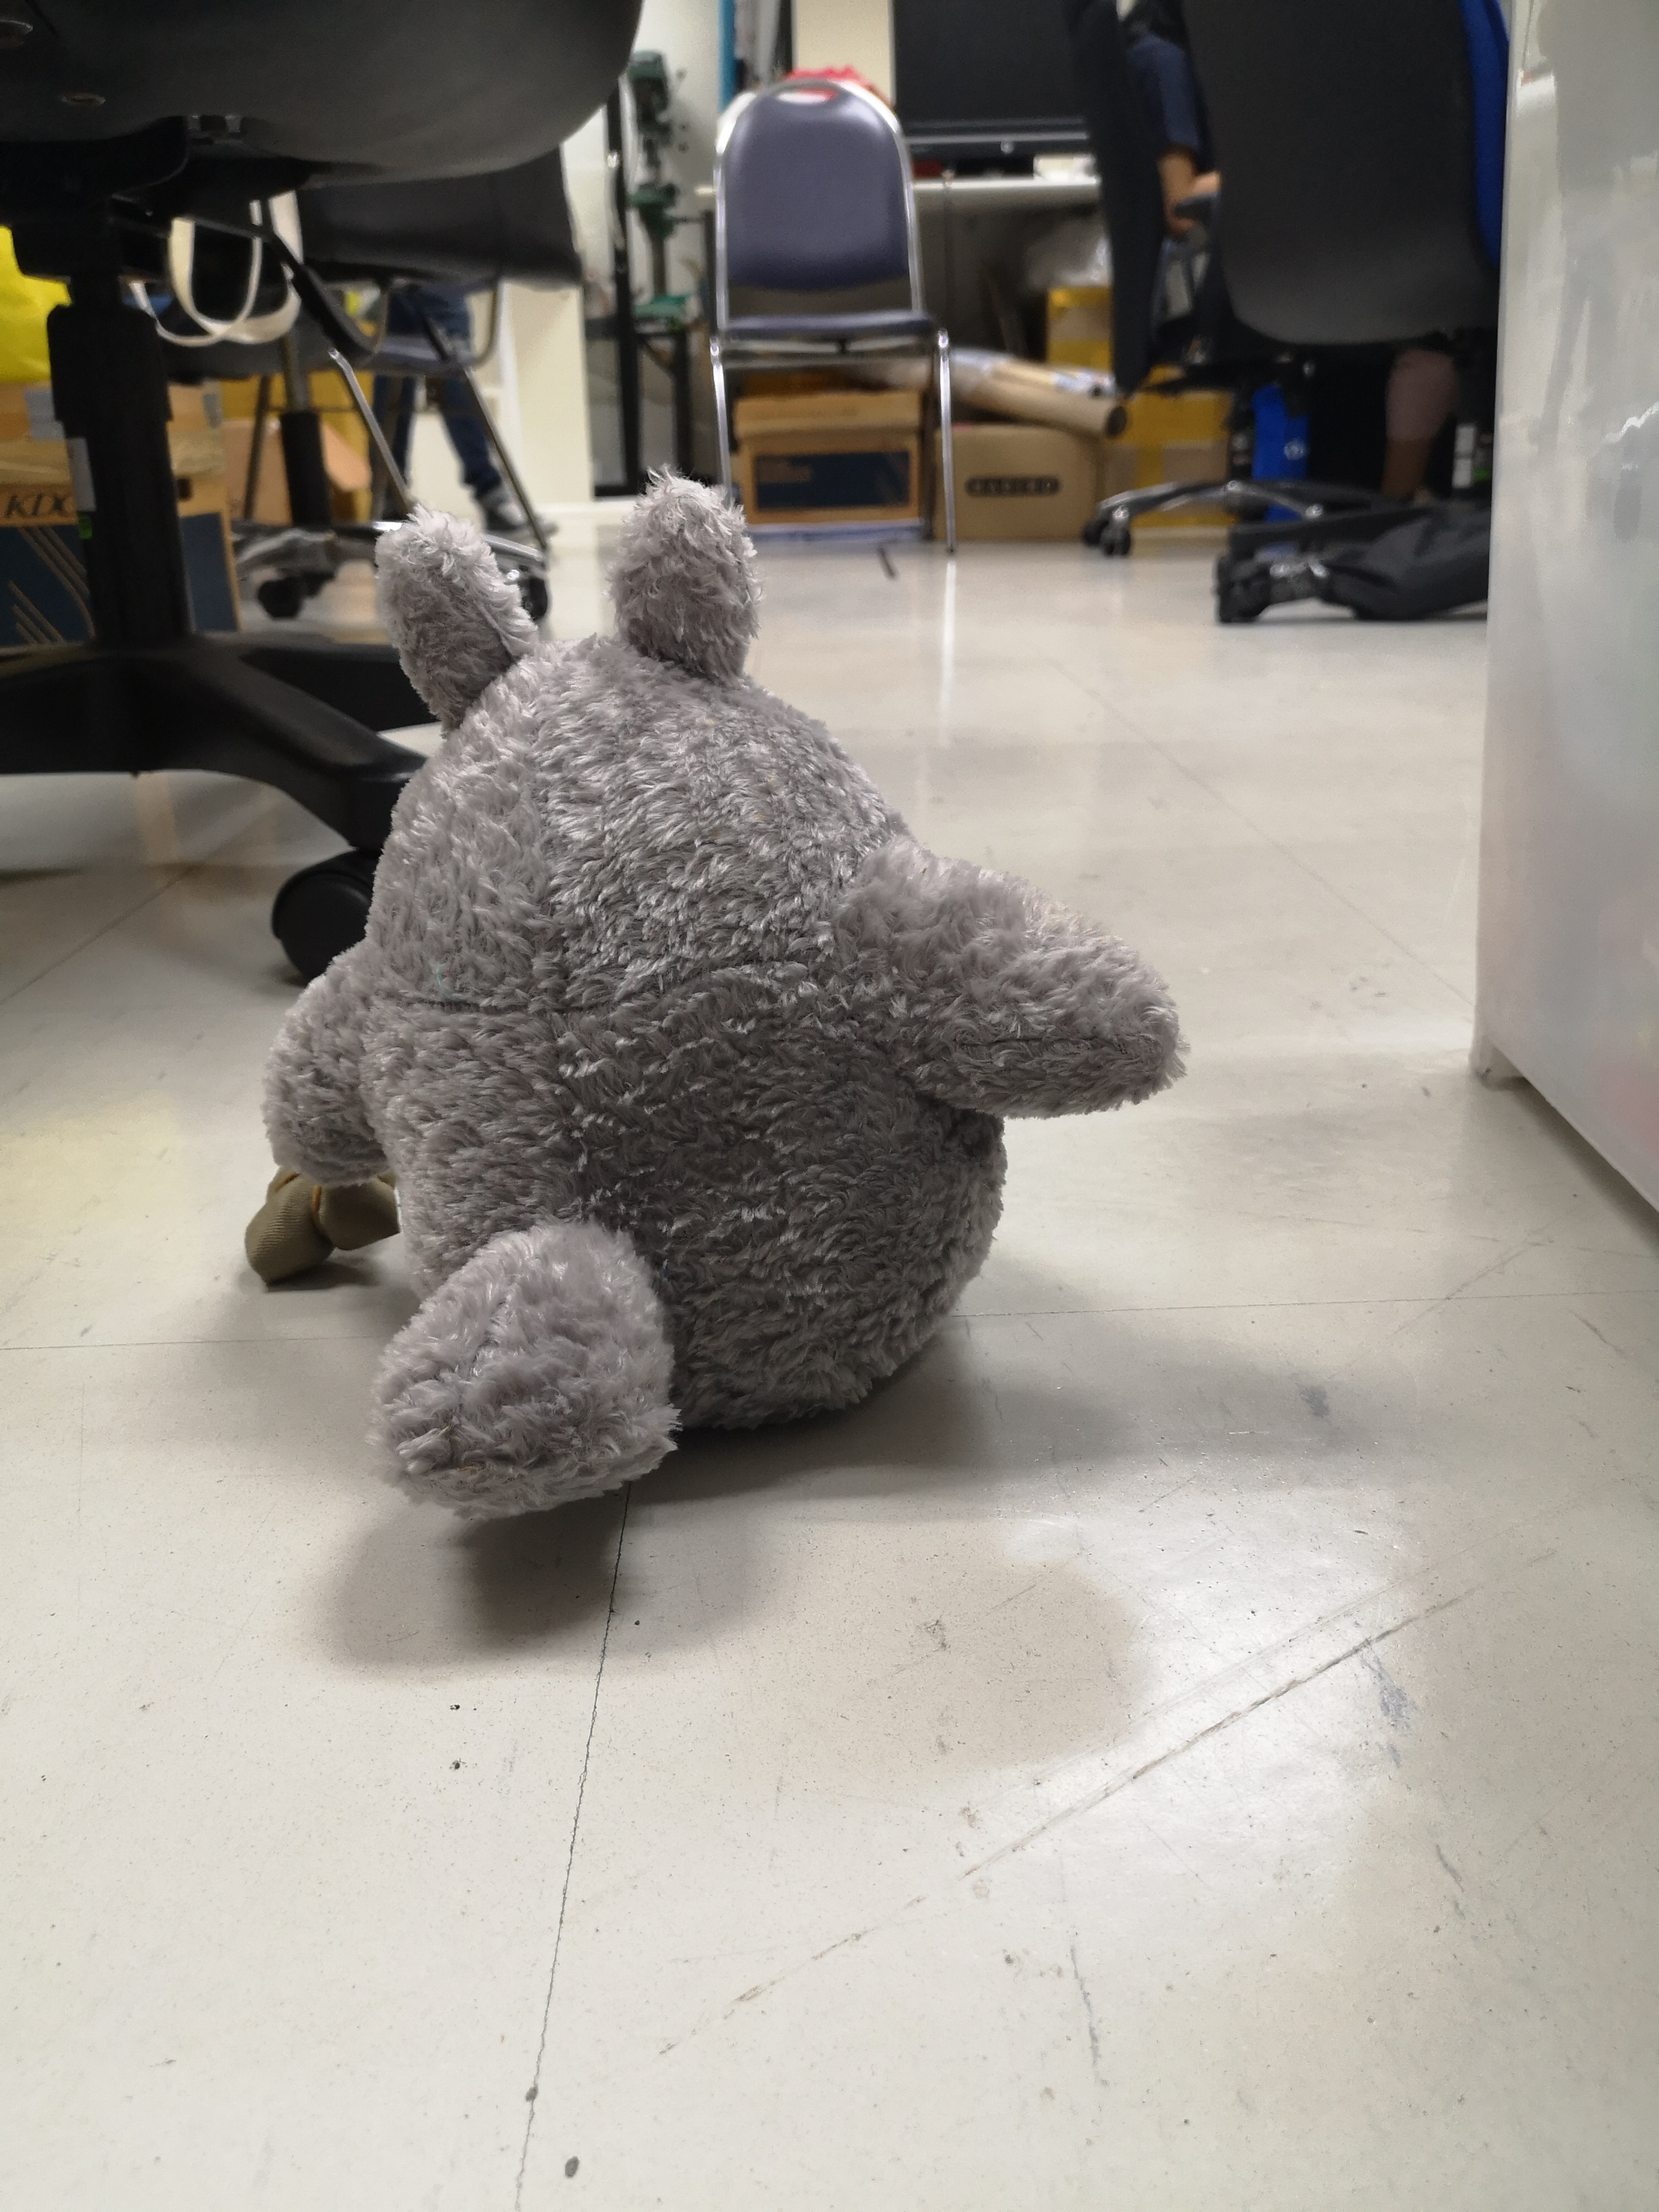totoro: (225, 458, 1199, 1533)
